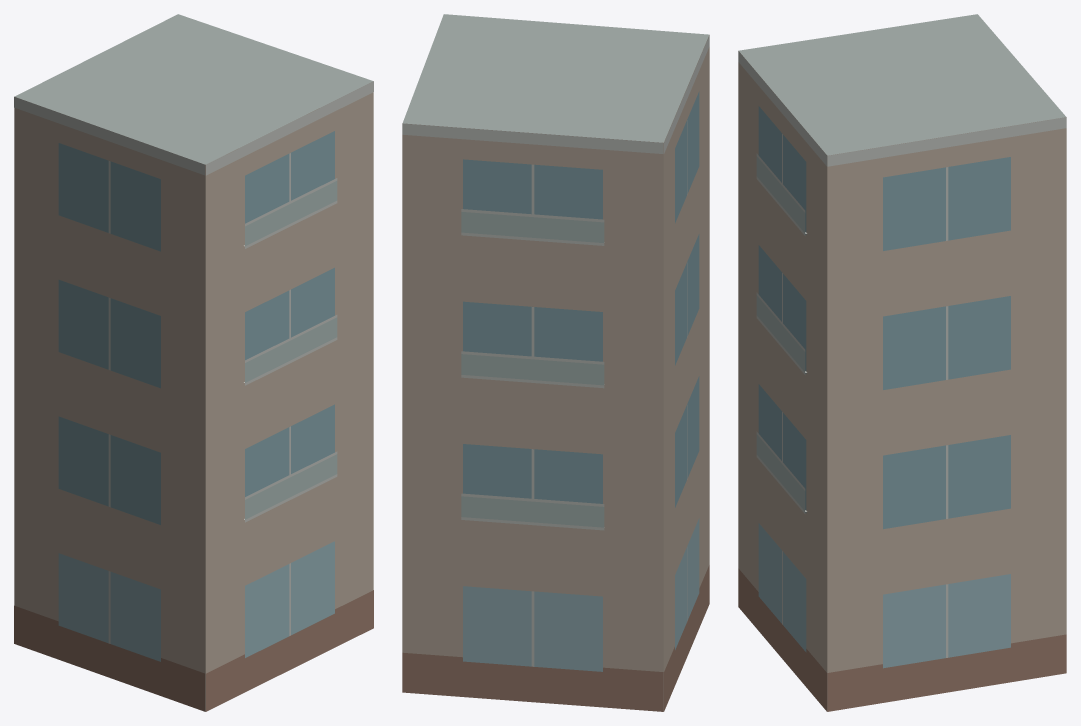
File: survey-upis-33027823.glb
3 views of the same model, side by side, from view 1: azimuth 30°, elevation 25°; view 2: azimuth 150°, elevation 25°; view 3: azimuth 270°, elevation 25° (orthographic). The views are drawn at different scales.
Parts seen in each view (by area): view 1: survey-upis-33027823.tmp; view 2: survey-upis-33027823.tmp; view 3: survey-upis-33027823.tmp.
Part boxes in pixels (bbox=[...]): survey-upis-33027823.tmp: bbox=[14, 14, 373, 711]; survey-upis-33027823.tmp: bbox=[402, 14, 709, 711]; survey-upis-33027823.tmp: bbox=[738, 14, 1066, 711].
Bounding box in the file's own units: 6.67 × 12.2 × 6.53.
